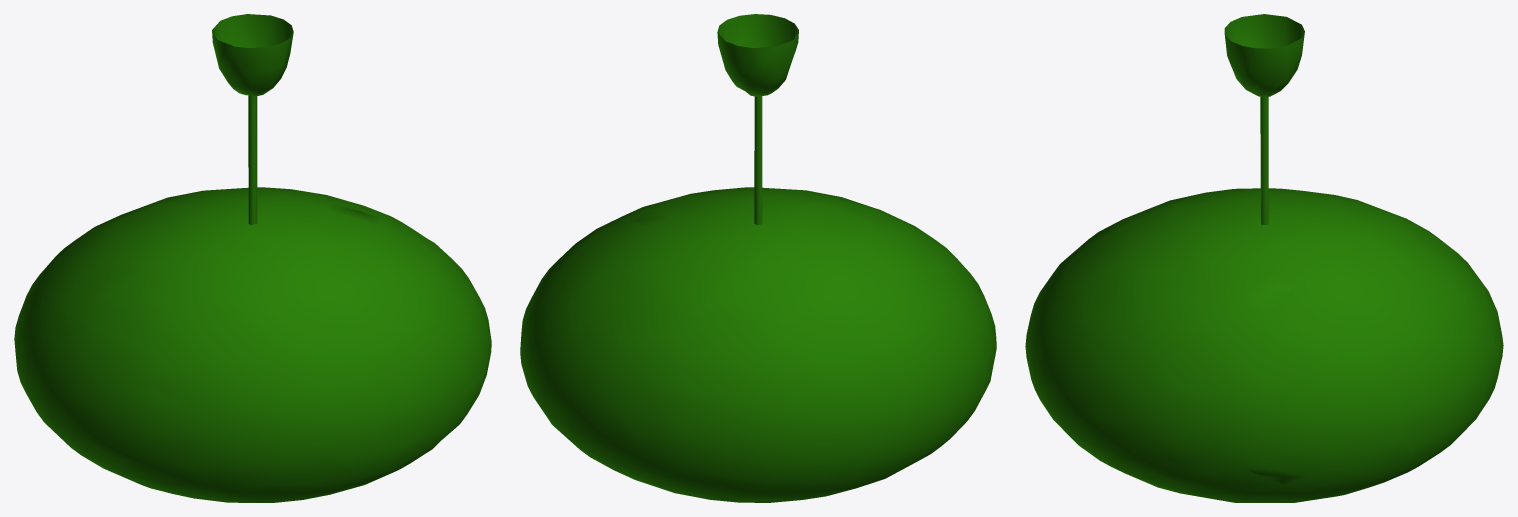
The model's file is Ceiling lamp.FBX.
The picture shows the model from 3 angles, left to right: view 1: azimuth 30°, elevation 25°; view 2: azimuth 150°, elevation 25°; view 3: azimuth 270°, elevation 25°; orthographic projection.
Parts seen in each view (by area): view 1: Ceiling lamp; view 2: Ceiling lamp; view 3: Ceiling lamp.
Boxes of the visible parts, x1,y1,x2,y2 form: Ceiling lamp: [14, 14, 491, 502]; Ceiling lamp: [520, 14, 996, 502]; Ceiling lamp: [1025, 14, 1503, 502].
Size of the model in its own units: 212 by 212 by 200.
